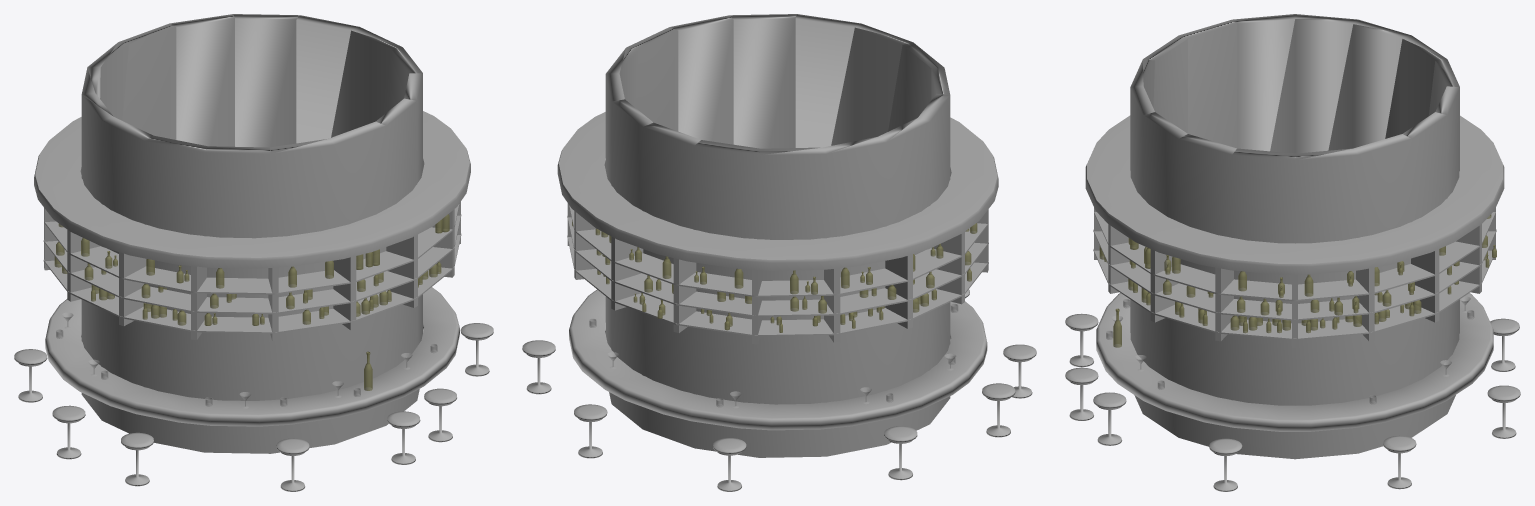
Rendered from Bar_Scene.fbx.
3 renders of one model, left to right at view 1: azimuth 30°, elevation 25°; view 2: azimuth 150°, elevation 25°; view 3: azimuth 270°, elevation 25°, orthographic.
Parts seen in each view (by area): view 1: Glass, Shelf, Bar, Stool1, pCylinder276, ShotGlass9; view 2: Glass, Shelf, Bar, Stool1, pCylinder276, ShotGlass9; view 3: Glass, Shelf, Bar, Stool1, pCylinder276, ShotGlass9.
Part boxes in pixels (box(x1,y1,x2,y2)): Glass: box(81, 14, 422, 453); Shelf: box(34, 111, 470, 341); Bar: box(45, 287, 459, 426); Stool1: box(14, 323, 493, 491); pCylinder276: box(54, 214, 449, 390); ShotGlass9: box(56, 312, 437, 408); Glass: box(605, 14, 950, 457); Shelf: box(557, 112, 998, 344); Bar: box(569, 289, 987, 430); Stool1: box(522, 289, 1036, 491); pCylinder276: box(572, 220, 977, 332); ShotGlass9: box(589, 303, 958, 408); Glass: box(1130, 14, 1459, 459); Shelf: box(1085, 115, 1504, 347); Bar: box(1096, 293, 1493, 431); Stool1: box(1065, 313, 1520, 491); pCylinder276: box(1099, 214, 1496, 347); ShotGlass9: box(1106, 296, 1474, 403).
Bounding box in the file's own units: 41.45 × 29.16 × 39.07.
